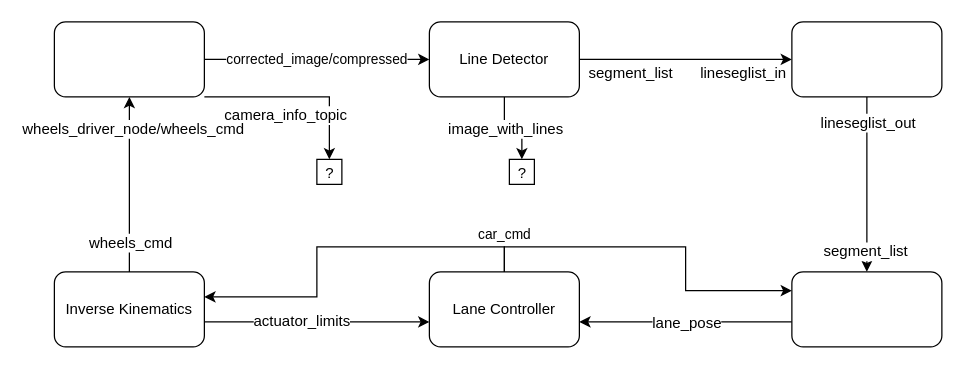
This 964x369 diagram has some shape labels left out. Each missing label, with the centre of its shape:
"Ground Projection" goes at [866,59].
"gymdt" goes at [128,59].
"Lane Filter" goes at [866,309].
